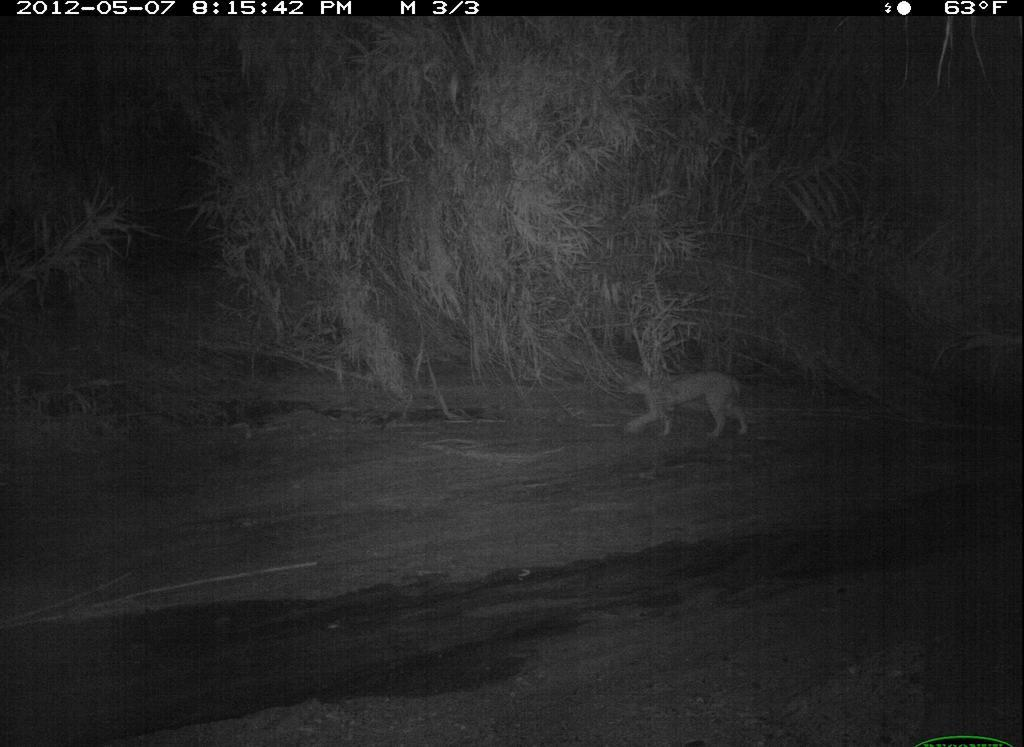bobcat: (616, 356, 762, 454)
